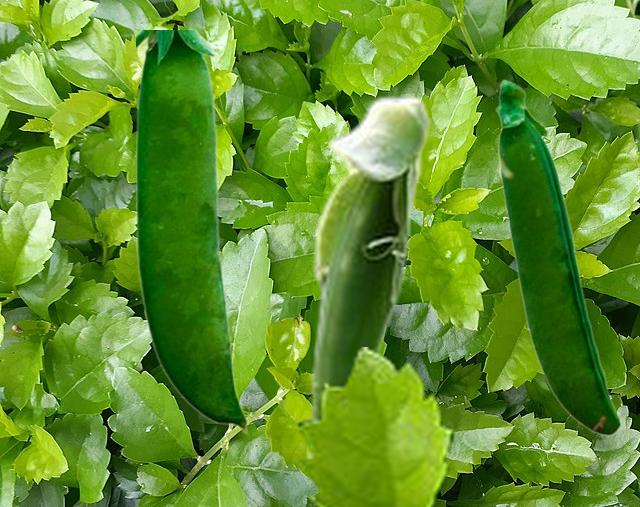pea: (136, 30, 247, 433), (495, 78, 620, 435), (309, 94, 431, 456)
